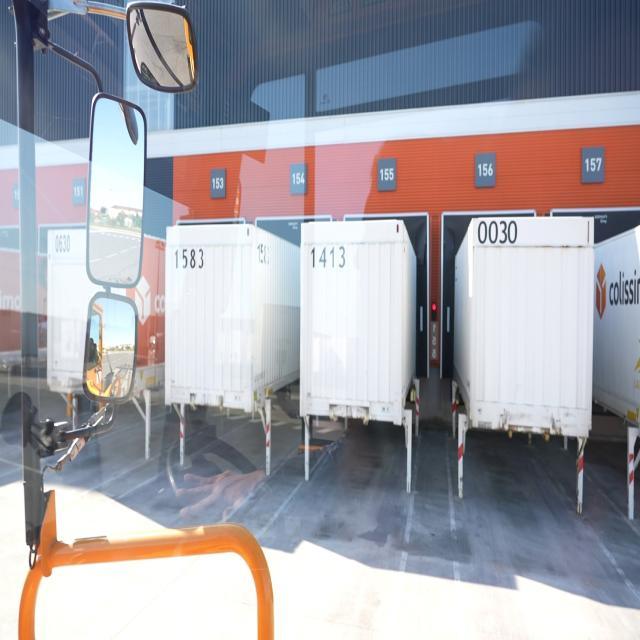Code: (474, 219, 518, 251), (308, 240, 348, 274), (170, 242, 208, 272), (51, 232, 73, 258)
